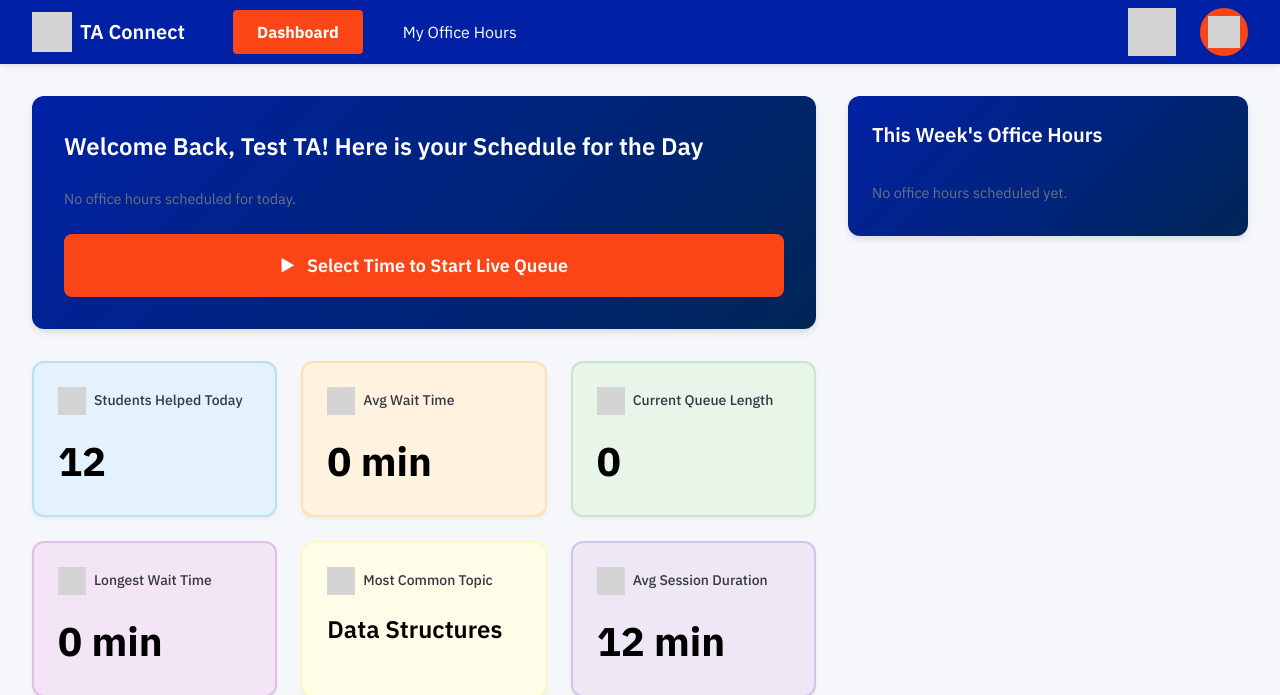
Test case: TADashboard — My Office Hours tab › switches back to Dashboard tab from My Office Hours
The image size is (1280, 695).
Click the button "My Office Hours" at (460, 32), box [379,10,541,54]
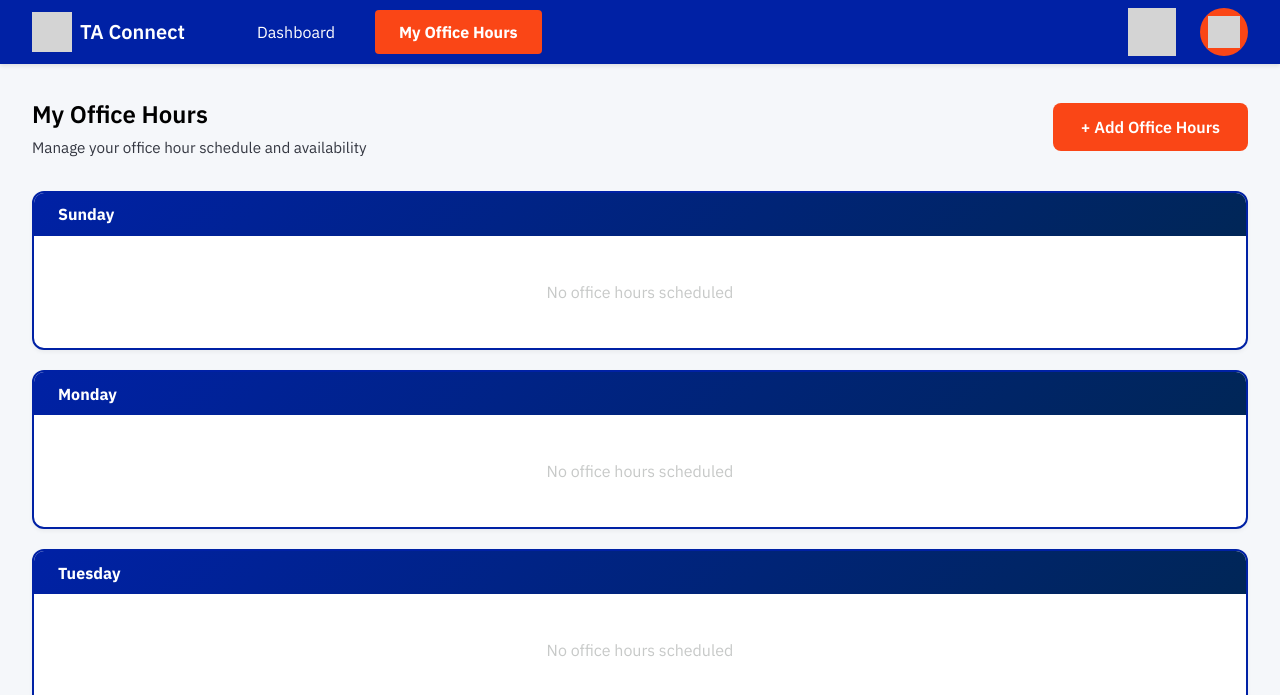
Now the text "Manage your office hour schedule and availability" is shown, box [32,136,367,159]
Click the button "Dashboard" at (296, 32), box [233,10,359,54]
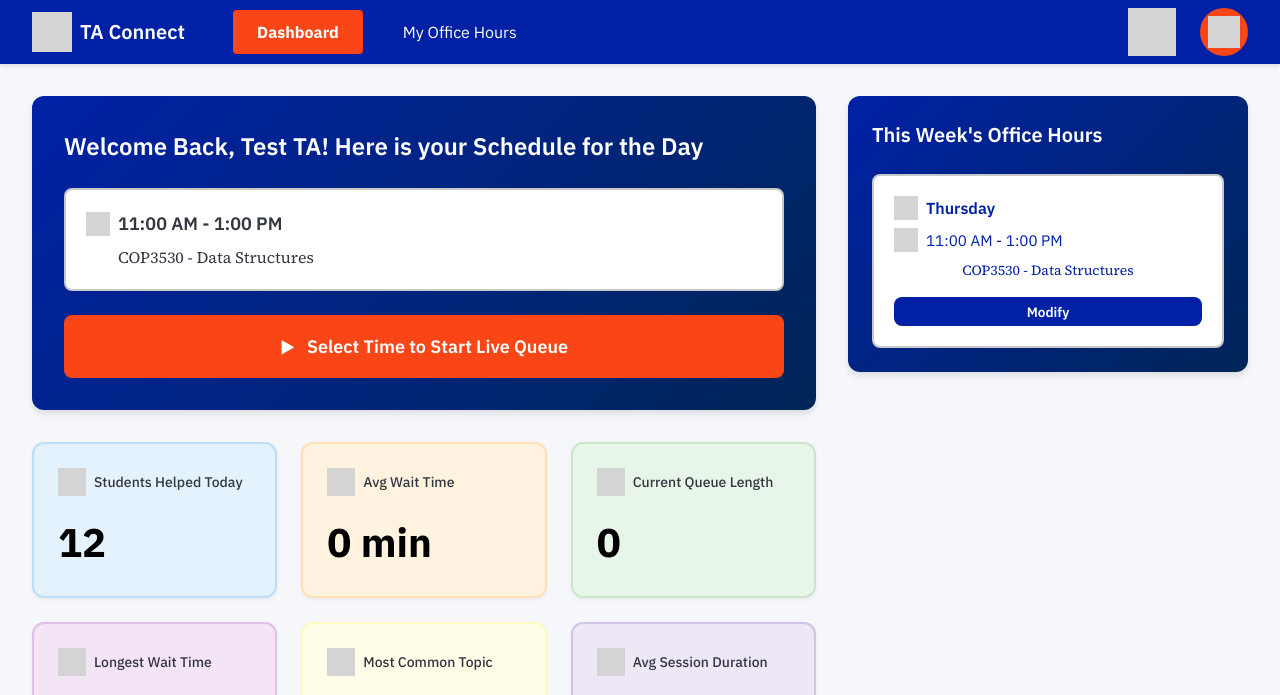
Now the heading "Welcome Back, Test TA! Here is your Schedule for the Day" is shown, box [64,128,784,164]
Now the text "Manage your office hour schedule and availability" is gone
